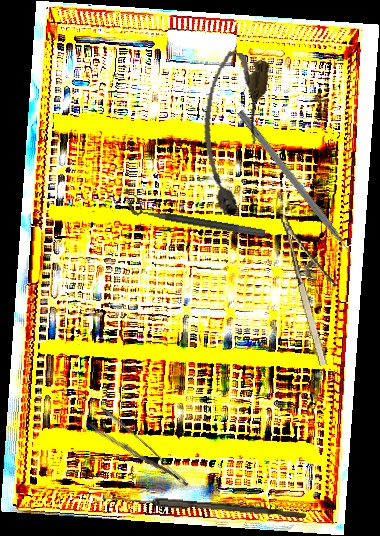Cannula: (189, 48, 272, 218)
Chopper: (228, 109, 361, 271)
Dressing Forceps: (85, 404, 192, 503)
Fixation Ring: (126, 193, 268, 239)
Needle Holder: (280, 207, 353, 368)
Surgical Spoon: (101, 493, 307, 519)
